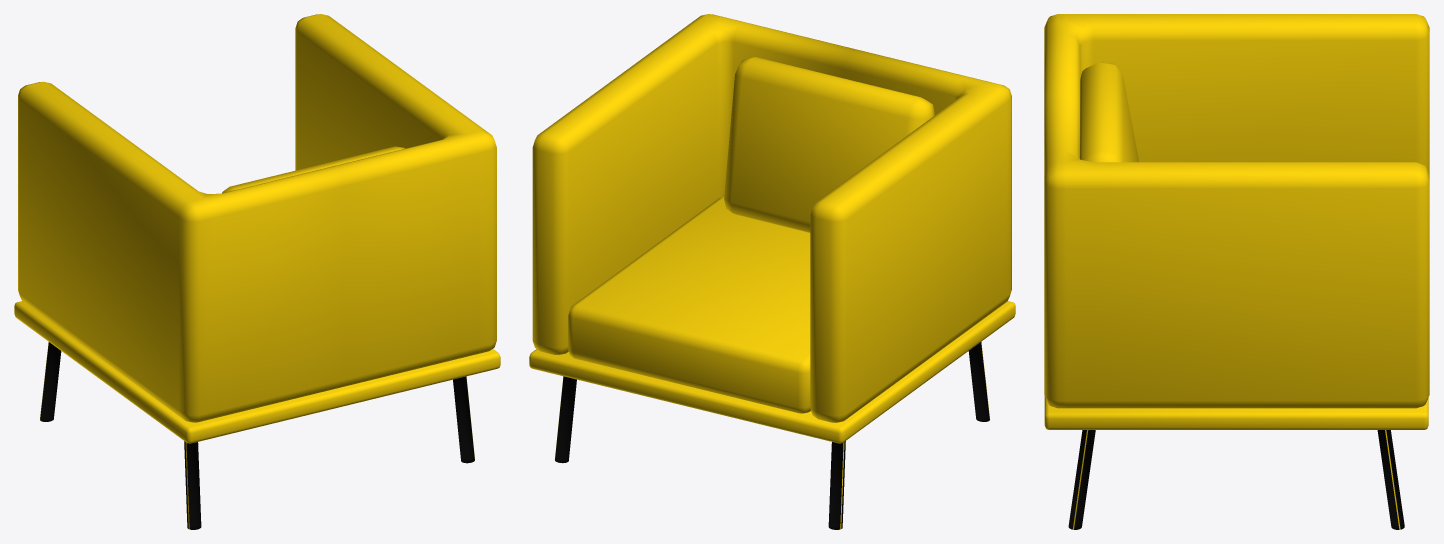
File: armchair.glb
3 renders of one model, left to right at view 1: azimuth 30°, elevation 25°; view 2: azimuth 150°, elevation 25°; view 3: azimuth 270°, elevation 25°, orthographic. The views are drawn at different scales.
Parts seen in each view (by area): view 1: Armchair; view 2: Armchair; view 3: Armchair.
Boxes of the visible parts, x1,y1,x2,y2 form: Armchair: [14, 14, 500, 529]; Armchair: [529, 14, 1015, 529]; Armchair: [1044, 14, 1429, 529].
Bounding box in the file's own units: 1.2 × 1.21 × 1.17.
